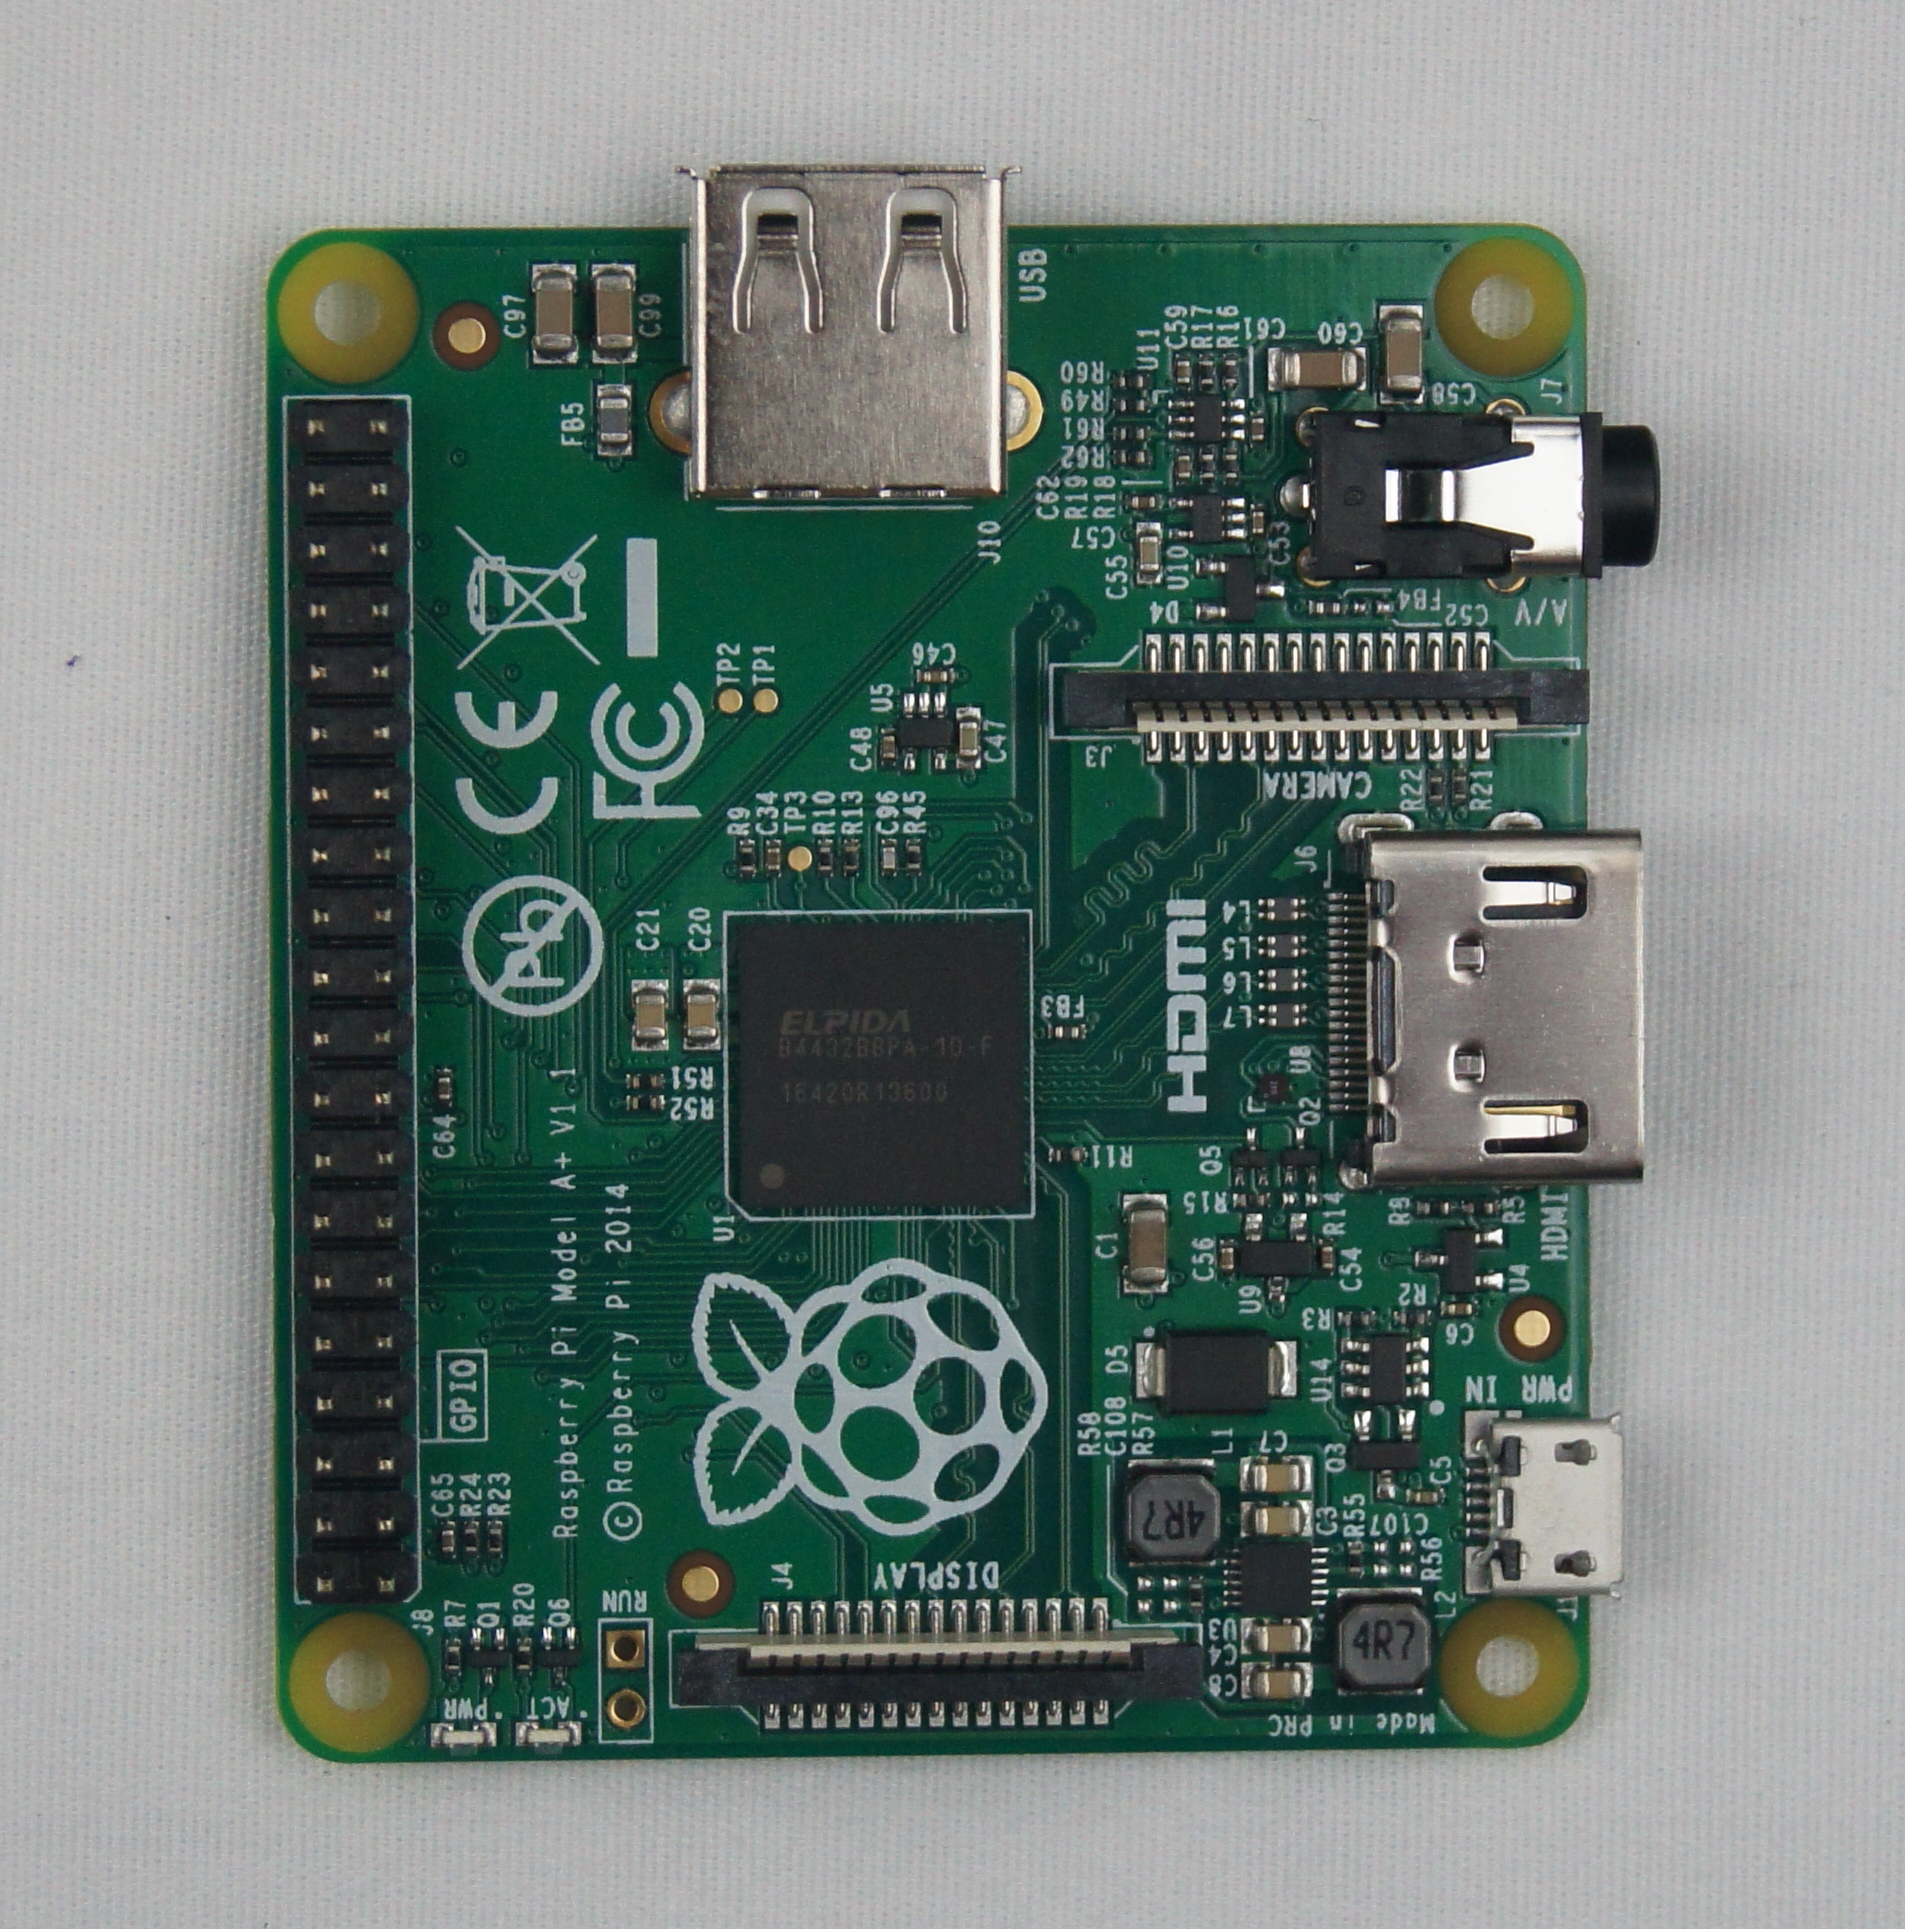Induktor: (1335, 1587, 1430, 1690), (1125, 1463, 1225, 1559), (1258, 933, 1307, 959), (1258, 966, 1307, 991), (1258, 896, 1308, 919), (1258, 1003, 1307, 1026)
